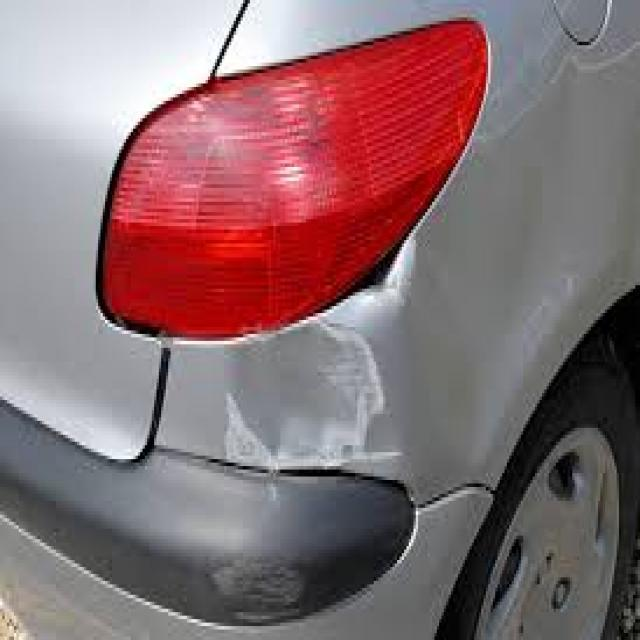minor: (212, 207, 426, 540)
